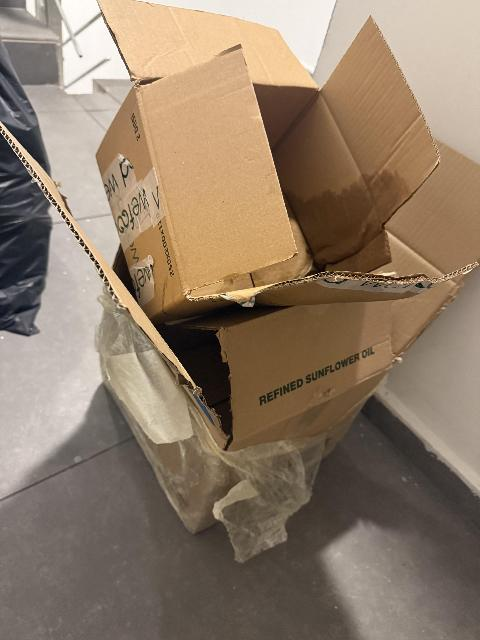Kagit: (1, 0, 480, 539)
